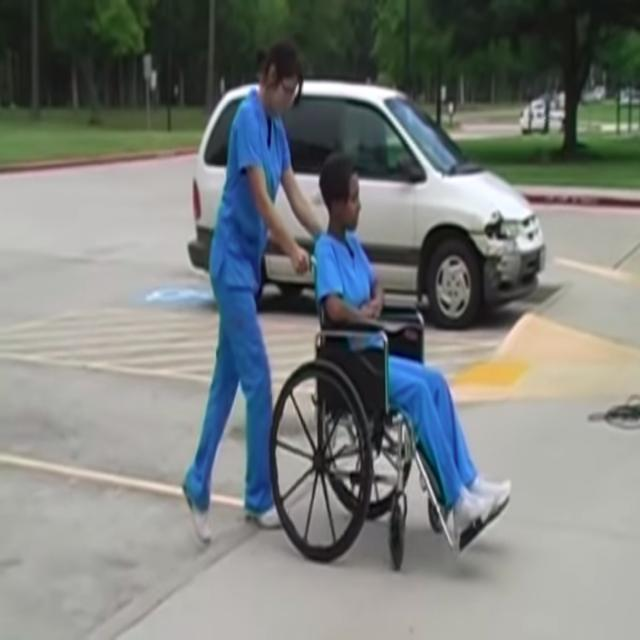wheelchairs: (269, 245, 444, 573)
